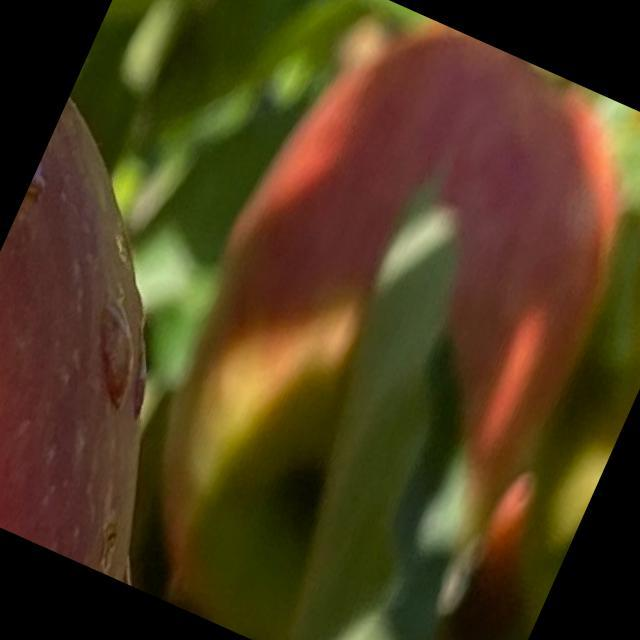100-_ripeness: (91, 0, 639, 639), (0, 96, 299, 583)
